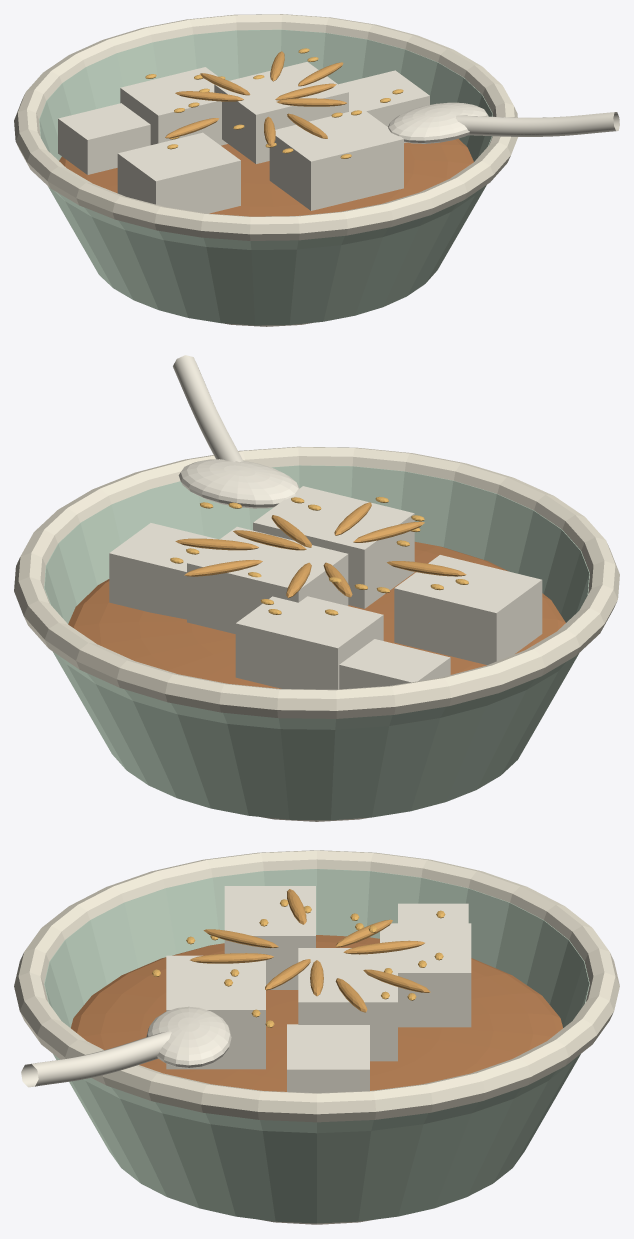
File: warm_tofu_bowl.glb
3 views of the same model, one above another, from view 1: azimuth 30°, elevation 25°; view 2: azimuth 150°, elevation 25°; view 3: azimuth 270°, elevation 25° (orthographic). The views are drawn at different scales.
Parts seen in each view (by area): view 1: tofu_jade_bowl_hollow_profile, tofu_jade_bowl_rolled_lip, soft_tofu_curd_1, soft_tofu_curd_0, ginger_syrup_surface, soft_tofu_curd_4, soft_tofu_curd_3, soft_tofu_curd_5, spoon_handle, soft_tofu_curd_2, porcelain_spoon_bowl, ginger_sliver_5 (+3 smaller); view 2: tofu_jade_bowl_hollow_profile, tofu_jade_bowl_rolled_lip, soft_tofu_curd_0, ginger_syrup_surface, soft_tofu_curd_3, soft_tofu_curd_4, soft_tofu_curd_1, soft_tofu_curd_2, porcelain_spoon_bowl, soft_tofu_curd_5, spoon_handle, ginger_sliver_8 (+4 smaller); view 3: tofu_jade_bowl_hollow_profile, tofu_jade_bowl_rolled_lip, ginger_syrup_surface, soft_tofu_curd_1, soft_tofu_curd_3, soft_tofu_curd_4, soft_tofu_curd_0, soft_tofu_curd_2, porcelain_spoon_bowl, spoon_handle, soft_tofu_curd_5, ginger_sliver_2 (+4 smaller).
Part boxes in pixels (box(x1,y1,x2,y2)): tofu_jade_bowl_hollow_profile: box(39, 29, 492, 325); tofu_jade_bowl_rolled_lip: box(14, 14, 517, 240); soft_tofu_curd_1: box(269, 108, 403, 210); soft_tofu_curd_0: box(117, 132, 240, 213); ginger_syrup_surface: box(59, 138, 473, 216); soft_tofu_curd_4: box(214, 62, 348, 163); soft_tofu_curd_3: box(120, 67, 227, 145); soft_tofu_curd_5: box(58, 103, 150, 174); spoon_handle: box(455, 112, 619, 136); soft_tofu_curd_2: box(338, 70, 429, 142); porcelain_spoon_bowl: box(388, 102, 488, 143); ginger_sliver_5: box(276, 98, 346, 106); tofu_jade_bowl_hollow_profile: box(44, 465, 589, 820); tofu_jade_bowl_rolled_lip: box(14, 446, 619, 718); soft_tofu_curd_0: box(394, 555, 542, 664); ginger_syrup_surface: box(68, 542, 565, 688); soft_tofu_curd_3: box(235, 596, 383, 689); soft_tofu_curd_4: box(187, 526, 348, 633); soft_tofu_curd_1: box(253, 486, 414, 608); soft_tofu_curd_2: box(109, 523, 217, 619); porcelain_spoon_bowl: box(178, 459, 299, 508); soft_tofu_curd_5: box(339, 639, 450, 689); spoon_handle: box(173, 355, 243, 462); ginger_sliver_8: box(175, 538, 258, 550); tofu_jade_bowl_hollow_profile: box(44, 869, 589, 1223); tofu_jade_bowl_rolled_lip: box(14, 850, 619, 1122); ginger_syrup_surface: box(71, 935, 562, 1091); soft_tofu_curd_1: box(166, 955, 265, 1069); soft_tofu_curd_3: box(380, 923, 471, 1027); soft_tofu_curd_4: box(298, 948, 397, 1061); soft_tofu_curd_0: box(224, 886, 315, 989); soft_tofu_curd_2: box(287, 1024, 369, 1092); porcelain_spoon_bowl: box(146, 1006, 231, 1068); spoon_handle: box(21, 1031, 171, 1087); soft_tofu_curd_5: box(398, 903, 468, 923); ginger_sliver_2: box(190, 953, 273, 963).
Size of the model in its own units: 0.8118 by 0.3207 by 0.781.
